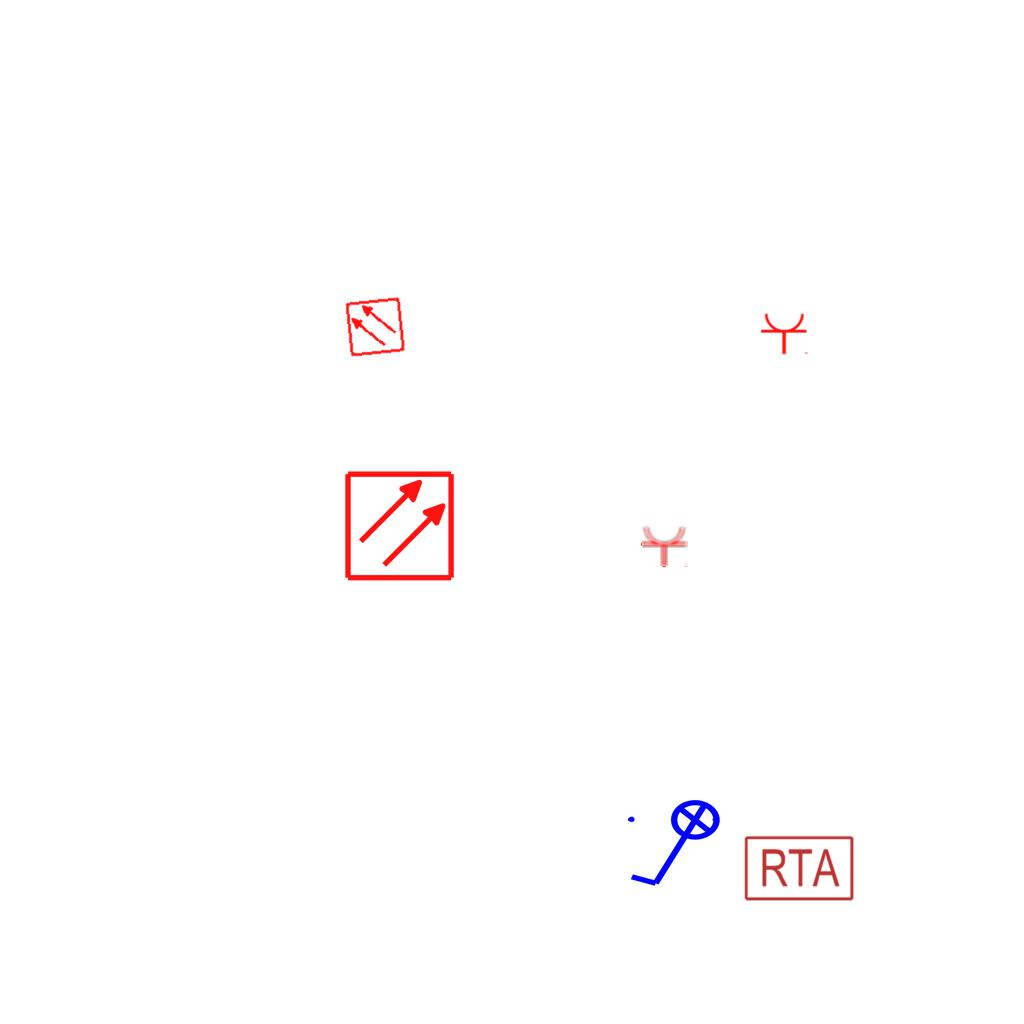Ausschalter_beleuchtet: (622, 798, 734, 894)
RMO_Rauchmelder_optischer: (343, 469, 456, 582), (344, 296, 406, 358)
Ruf-und_Abstelltaster: (741, 834, 855, 903)
Schukosteckdose_einfach: (640, 525, 690, 568), (760, 312, 810, 355)
